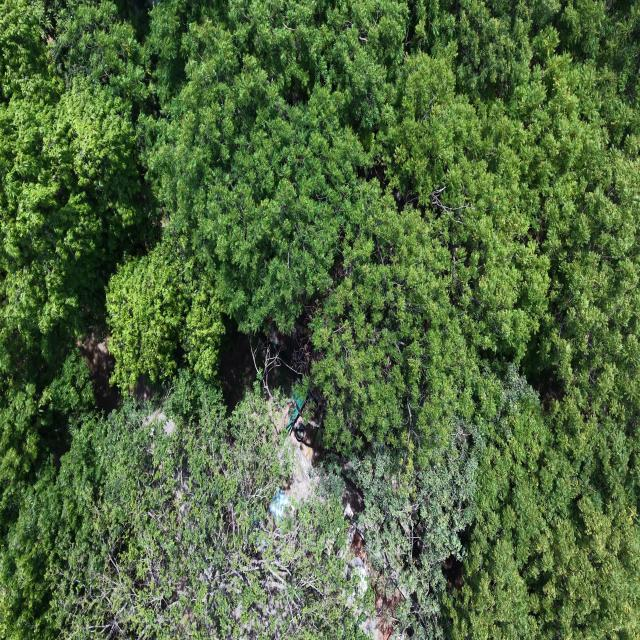VEGETATION_TREE: (0, 0, 639, 639), (47, 376, 364, 638)
